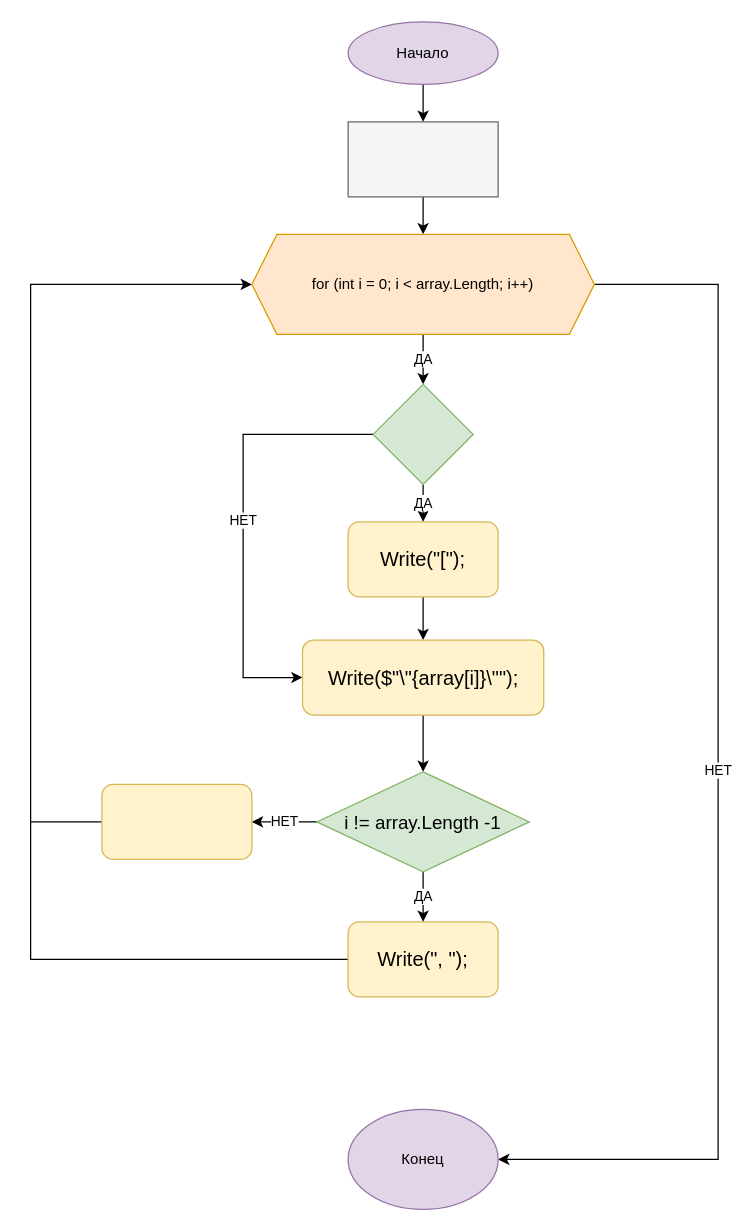
This 754x1231 diagram has some shape labels left out. The centre of each missing label's shape, as x and y in pixels:
i == 0: [422,433]
string[] array;: [422,159]
Write("]");: [176,821]
